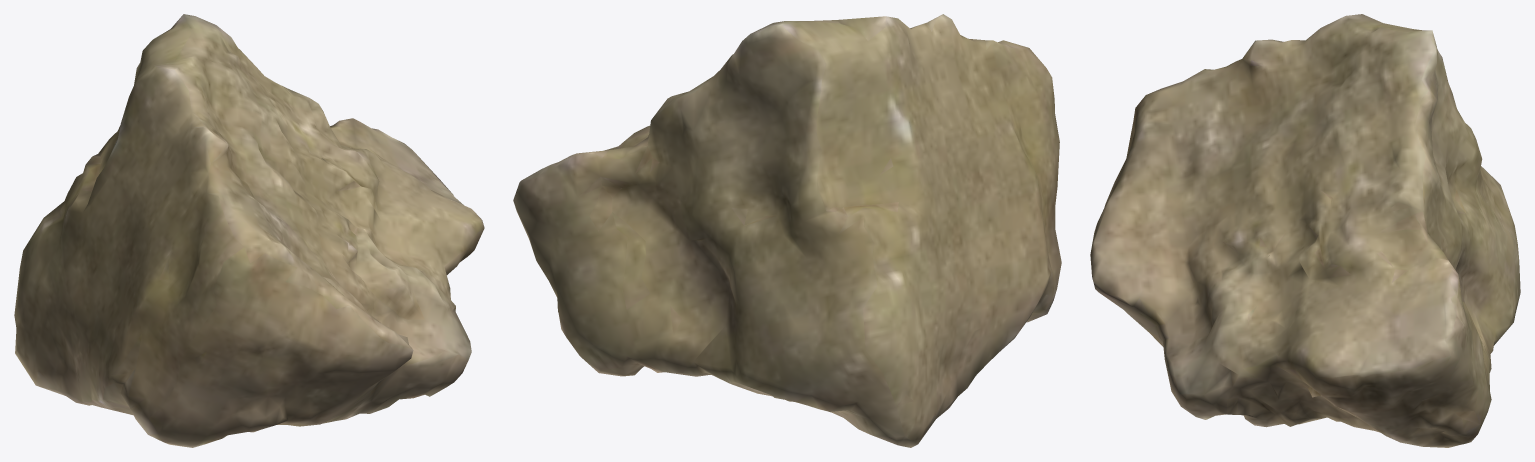
File: rock-moss-b.glb
3 views of the same model, side by side, from view 1: azimuth 30°, elevation 25°; view 2: azimuth 150°, elevation 25°; view 3: azimuth 270°, elevation 25° (orthographic). The views are drawn at different scales.
Visible parts, largest first — view 1: low; view 2: low; view 3: low.
Boxes of the visible parts, <box> form: low: <box>14,14,484,447</box>; low: <box>513,14,1061,447</box>; low: <box>1090,14,1520,447</box>.
Bounding box in the file's own units: 1.2 × 1 × 1.11.
Materials: 1 (1 with a texture image).
